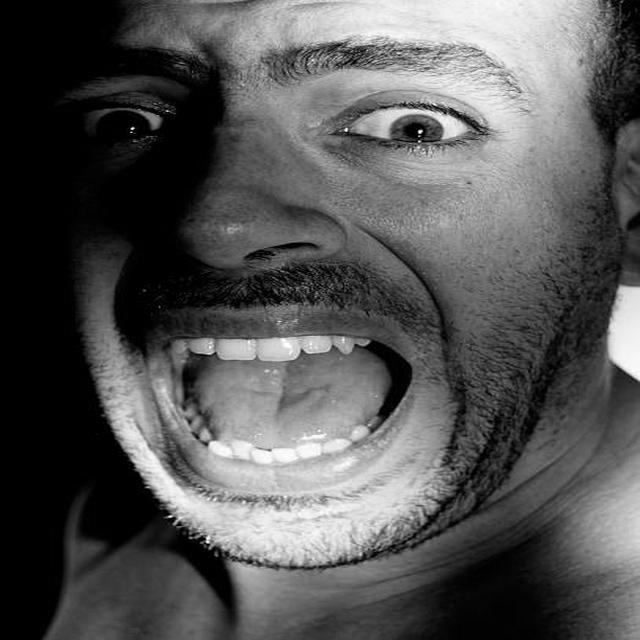Fear: (47, 0, 596, 572)
